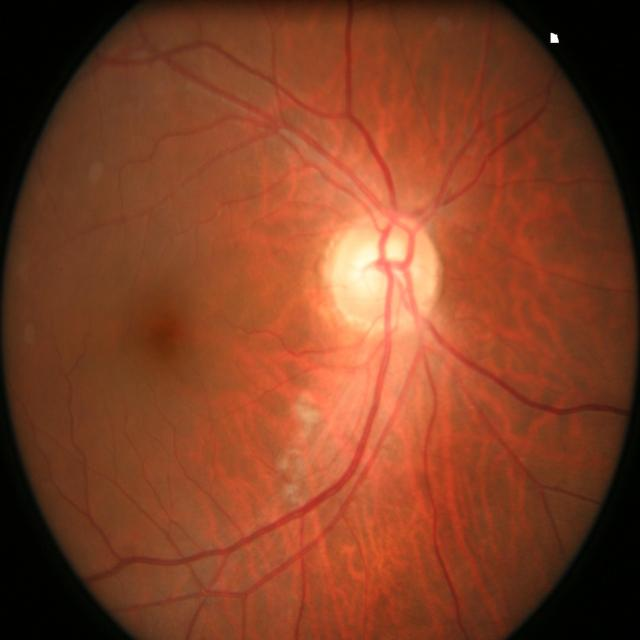OC: (351, 241, 407, 299)
OD: (326, 213, 438, 334)
